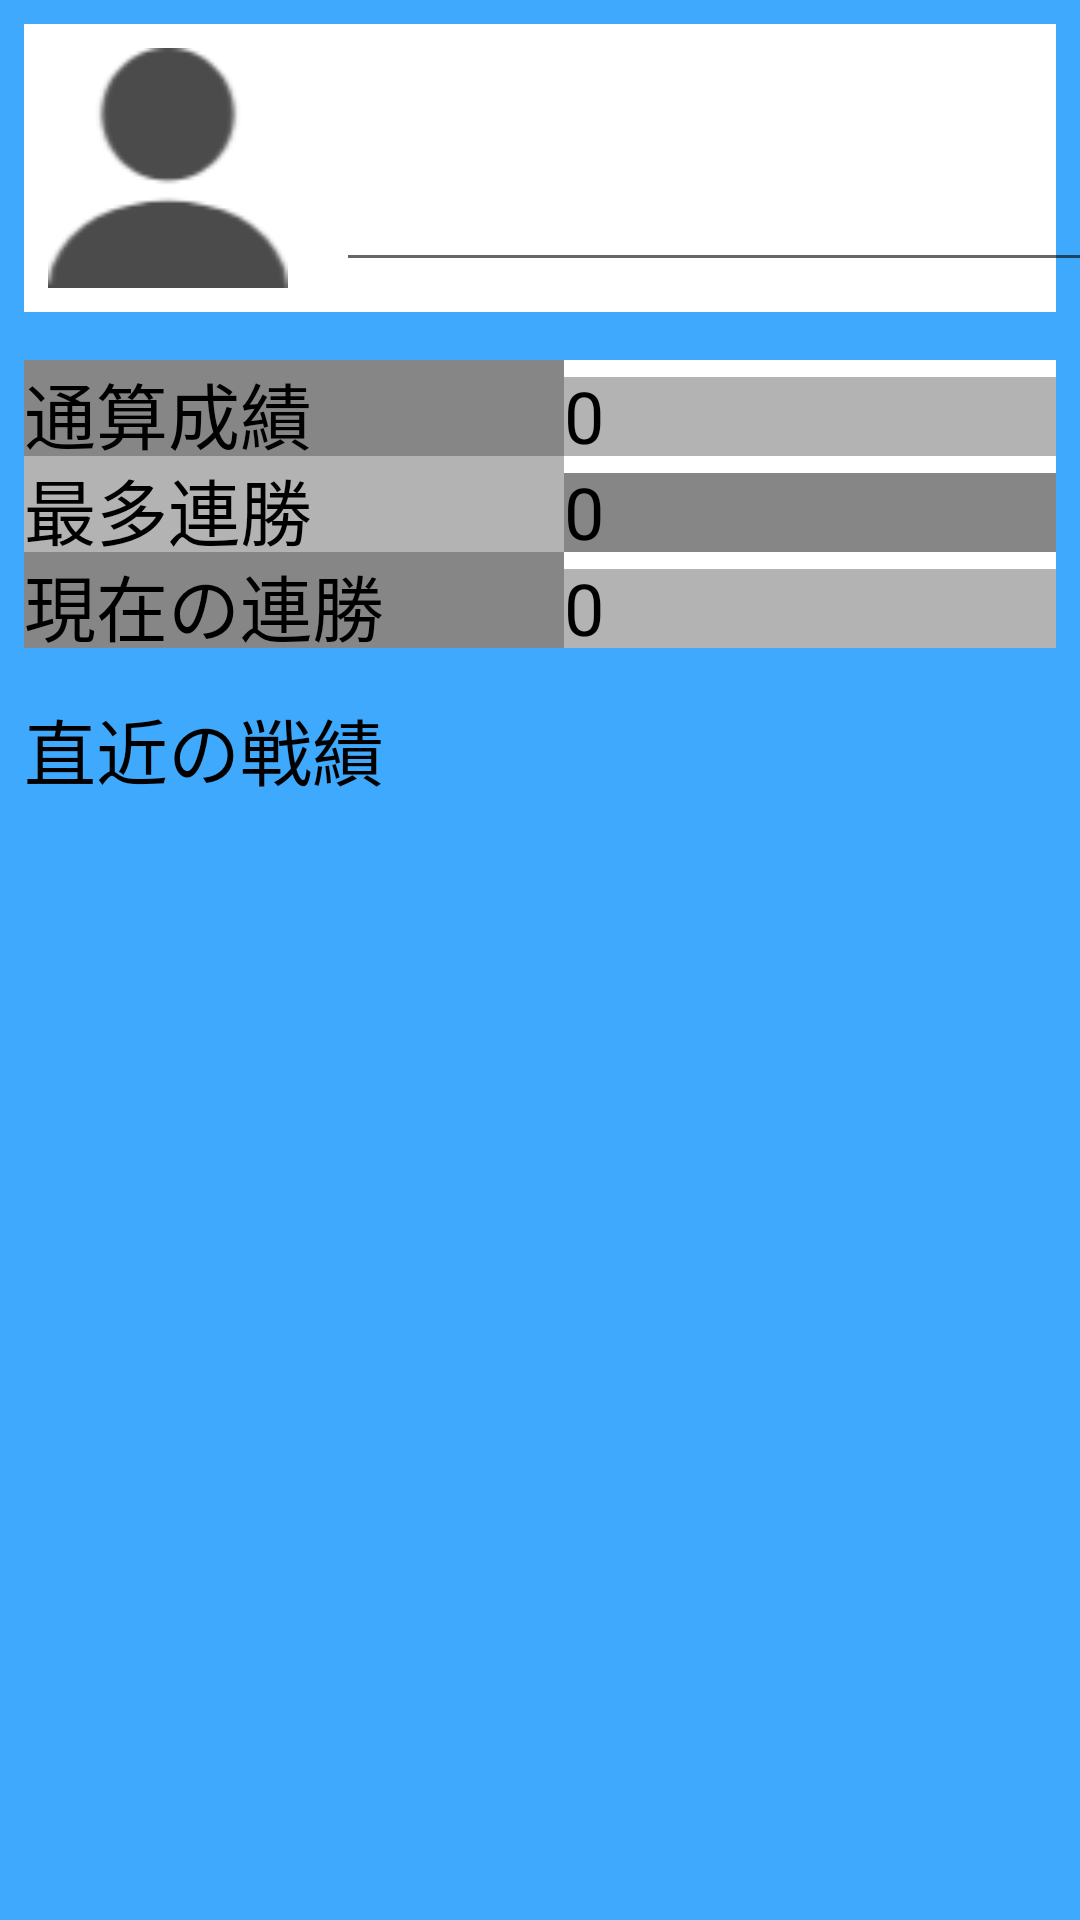

Icons on this 1080 × 1920 Android screen, each with its box as (x1, y1, x2, y2):
anonymous: (48, 48, 288, 288)
